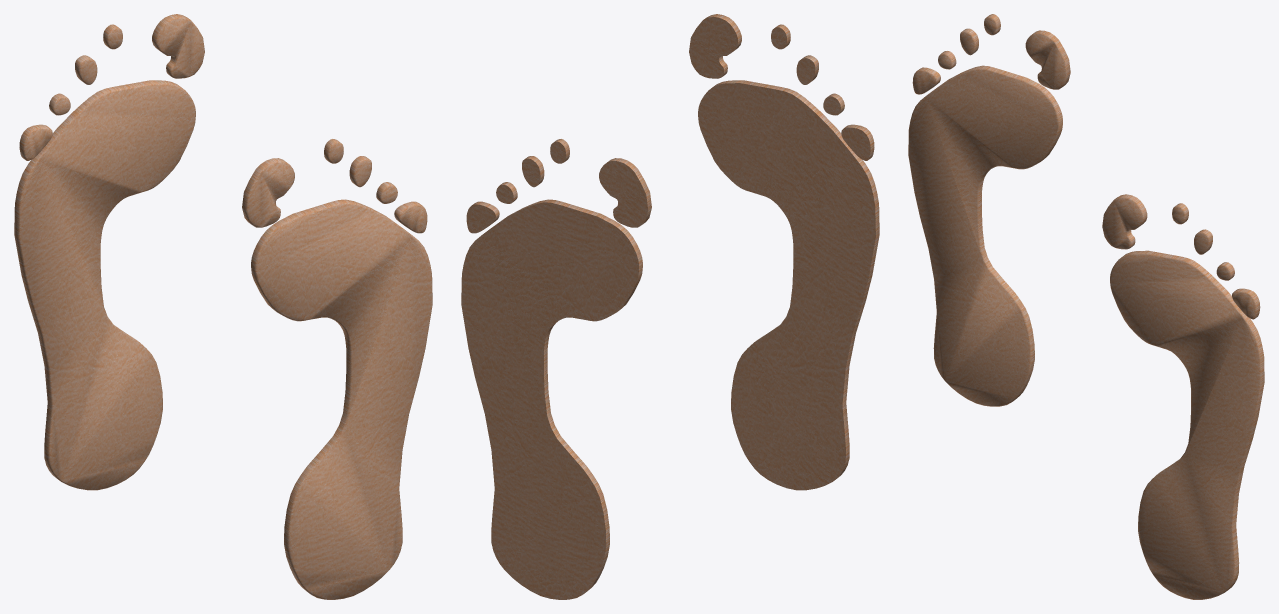
Rendered from pies.obj.
3 views of the same model, side by side, from view 1: azimuth 30°, elevation 25°; view 2: azimuth 150°, elevation 25°; view 3: azimuth 330°, elevation 25° (orthographic). The views are drawn at different scales.
Visible parts, largest first — view 1: Object__0; view 2: Object__0; view 3: Object__0.
Boxes of the visible parts, box(x1,y1,x2,y2) form: Object__0: box(14, 14, 432, 599); Object__0: box(461, 14, 879, 599); Object__0: box(908, 14, 1264, 599).
Size of the model in its own units: 0.632 by 0.9135 by 0.012.
1 material, 1 textured.
